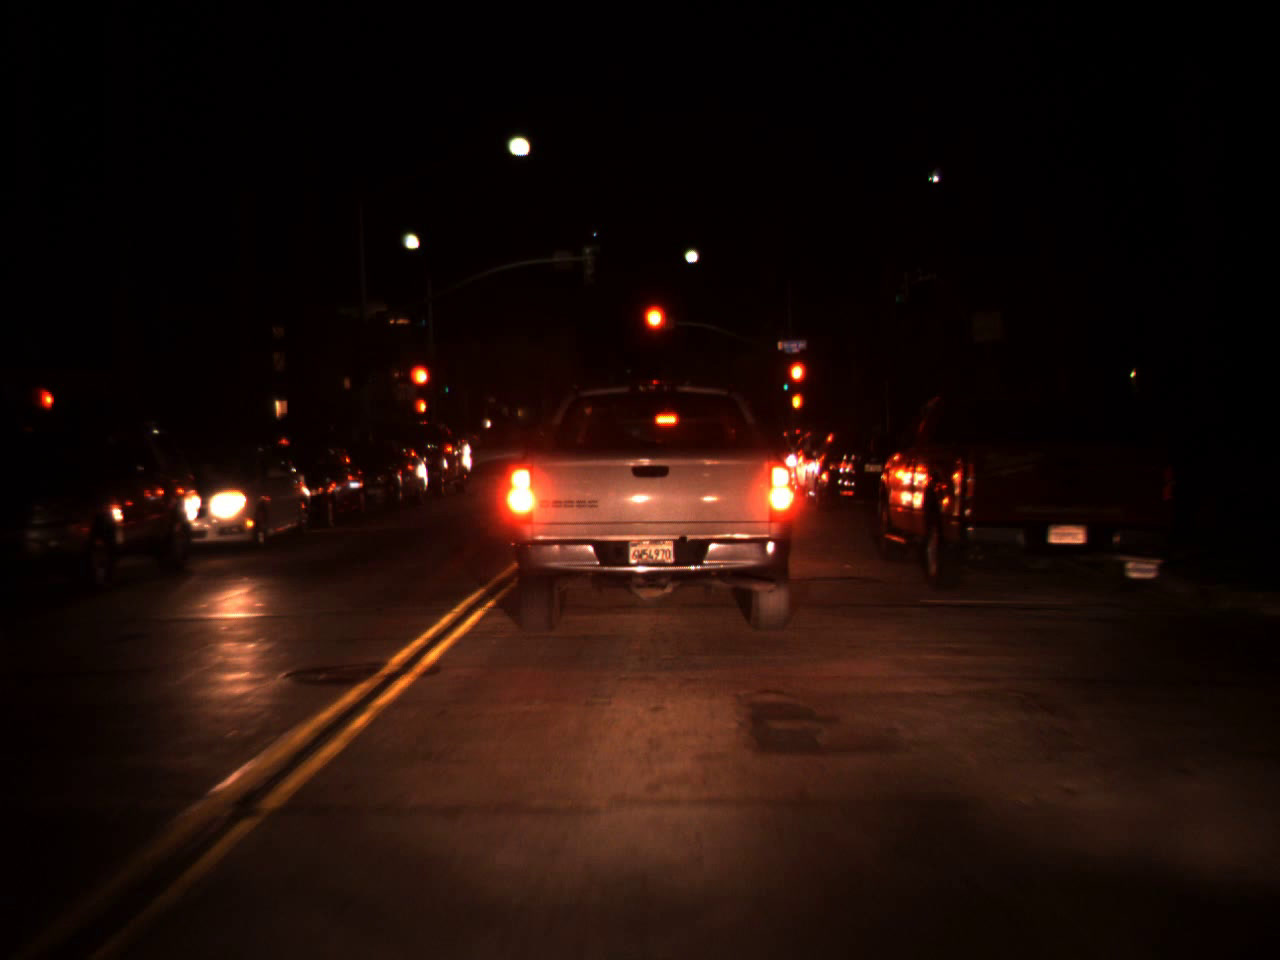stop: (640, 301, 670, 362), (407, 361, 432, 409), (786, 357, 807, 411)
